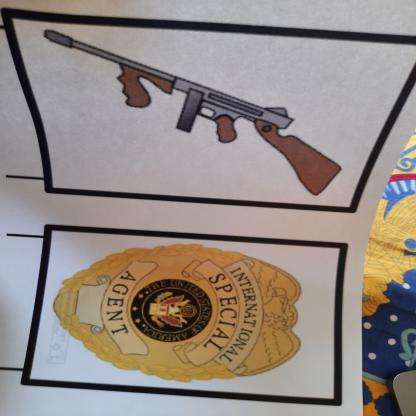Bootlegger: (24, 19, 357, 201)
G-man: (35, 234, 324, 390)
